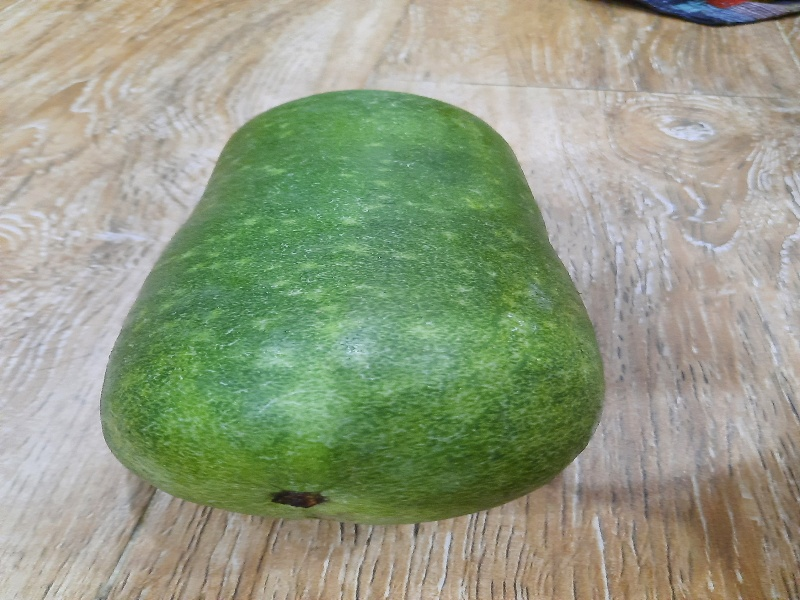vege: (93, 79, 606, 537)
